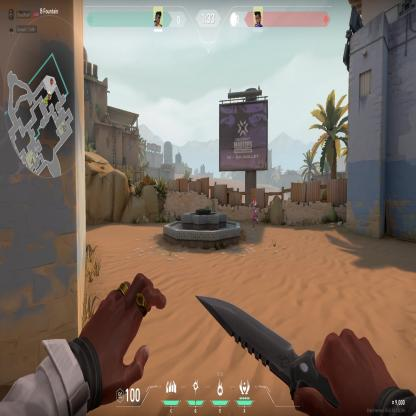enemy: (250, 194, 258, 232)
